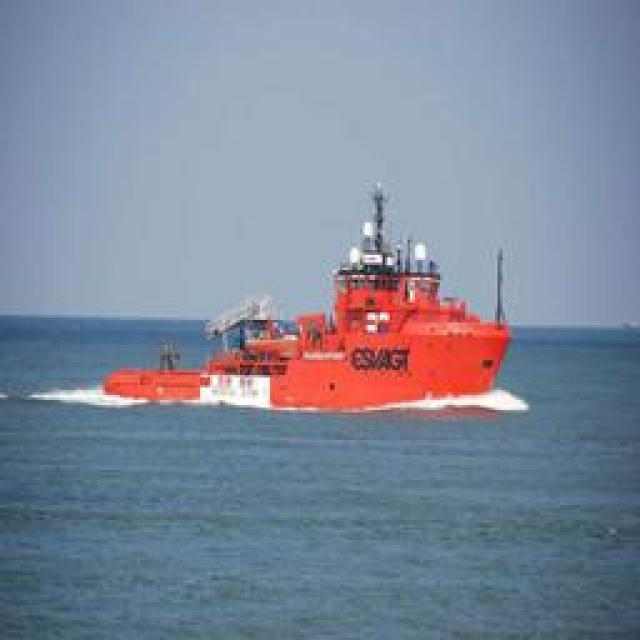ship2: (101, 189, 515, 412)
